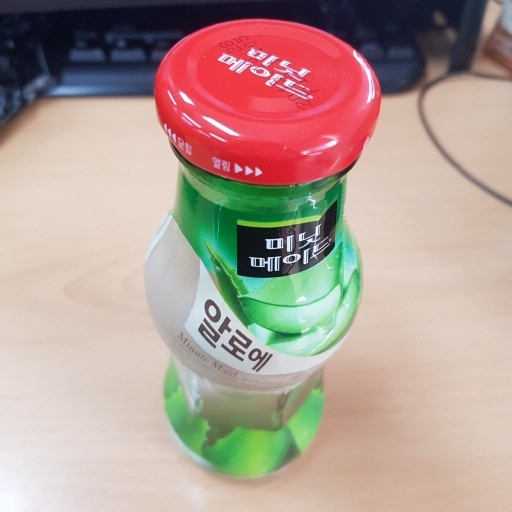Glass_4: (142, 19, 381, 486)
